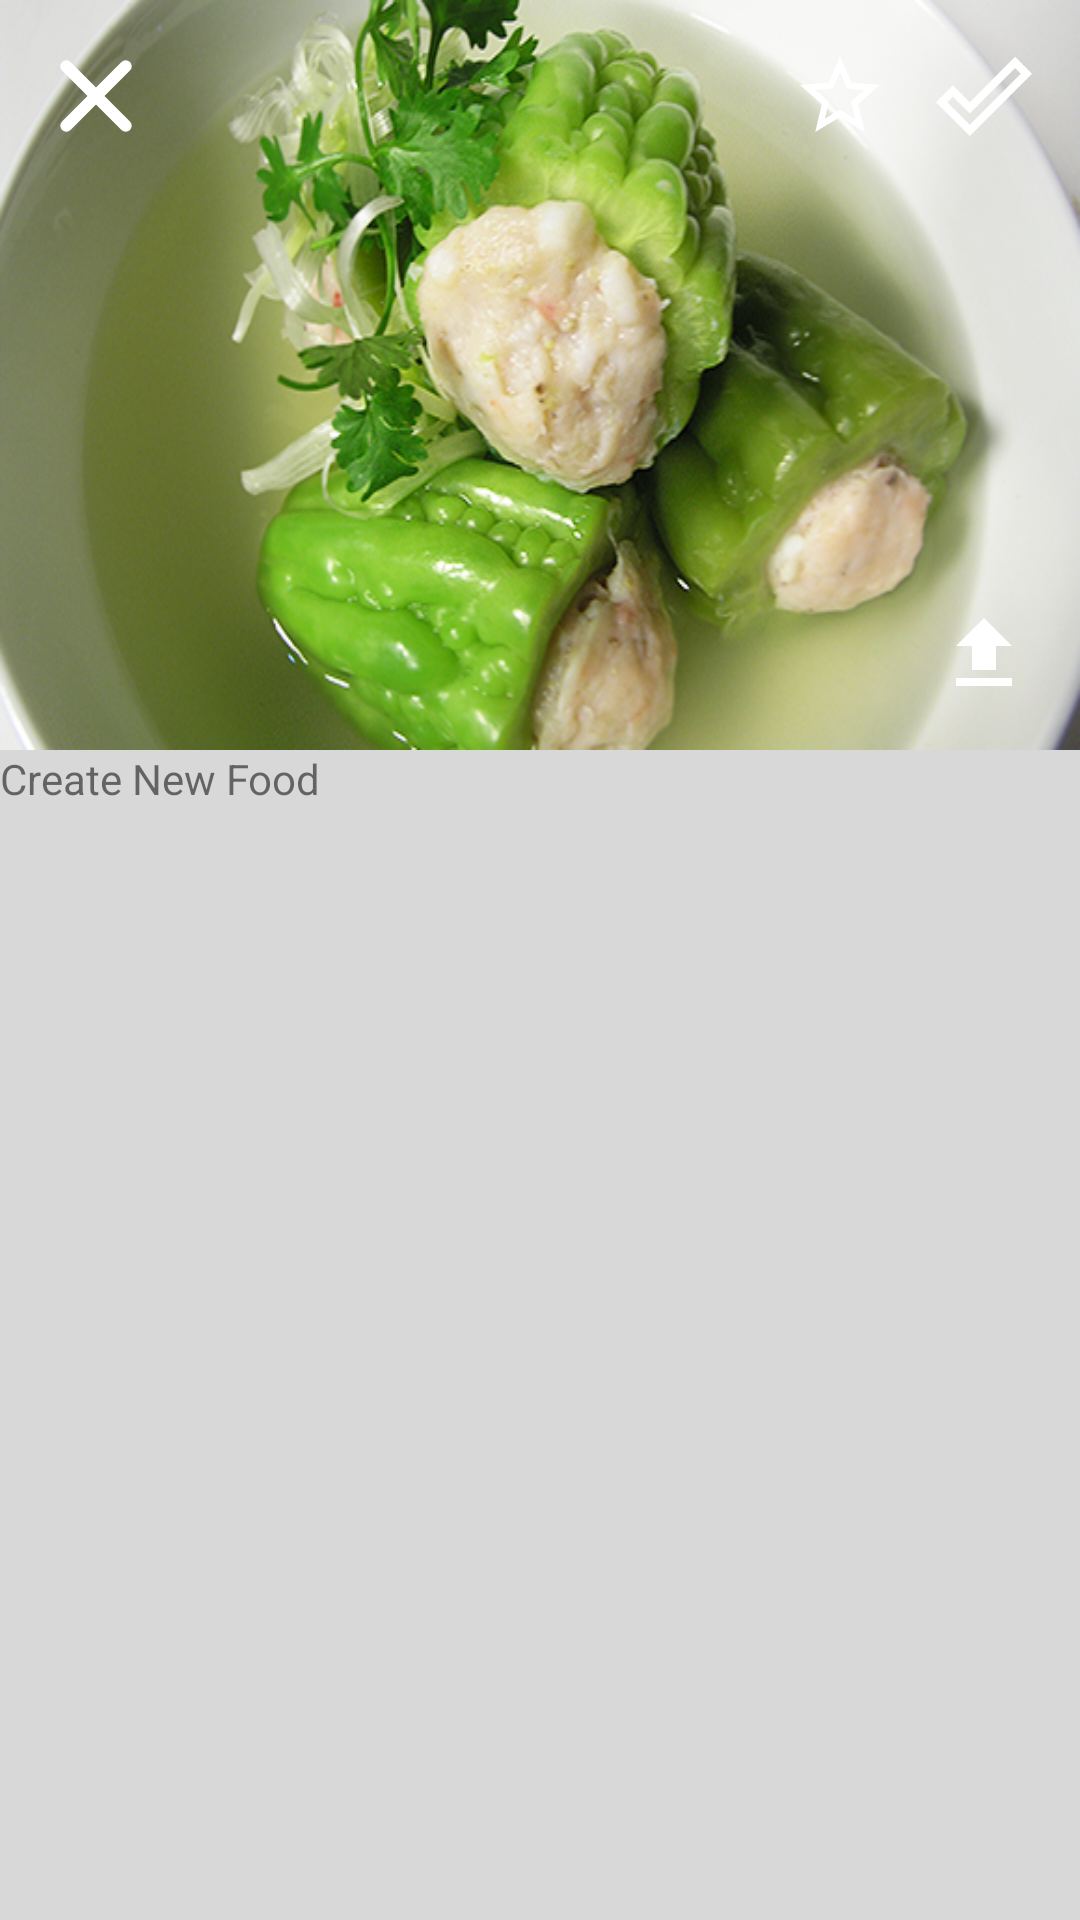

Icon click points for this 1080 x 1920 phone screenshot, format (x=x, y=y):
exit: (x=96, y=96)
upload: (x=984, y=652)
